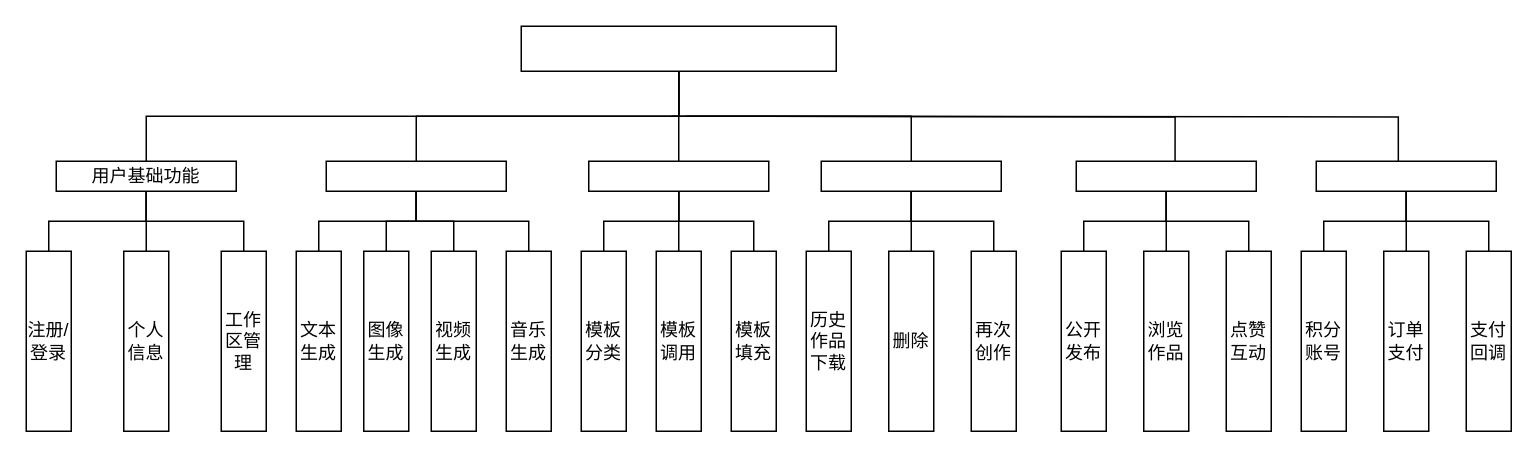
Image size: 1538x458. Some labels were removed from this diagram. Each missing label, with the box of its shape:
作品管理功能: (820, 160, 1001, 191)
公开互动功能: (1075, 160, 1256, 191)
提示词模板功能: (587, 160, 769, 191)
智能创作功能: (325, 160, 506, 191)
积分支付功能: (1315, 160, 1496, 191)
融合多源AI模型的智能创作一体化平台: (520, 25, 836, 71)
